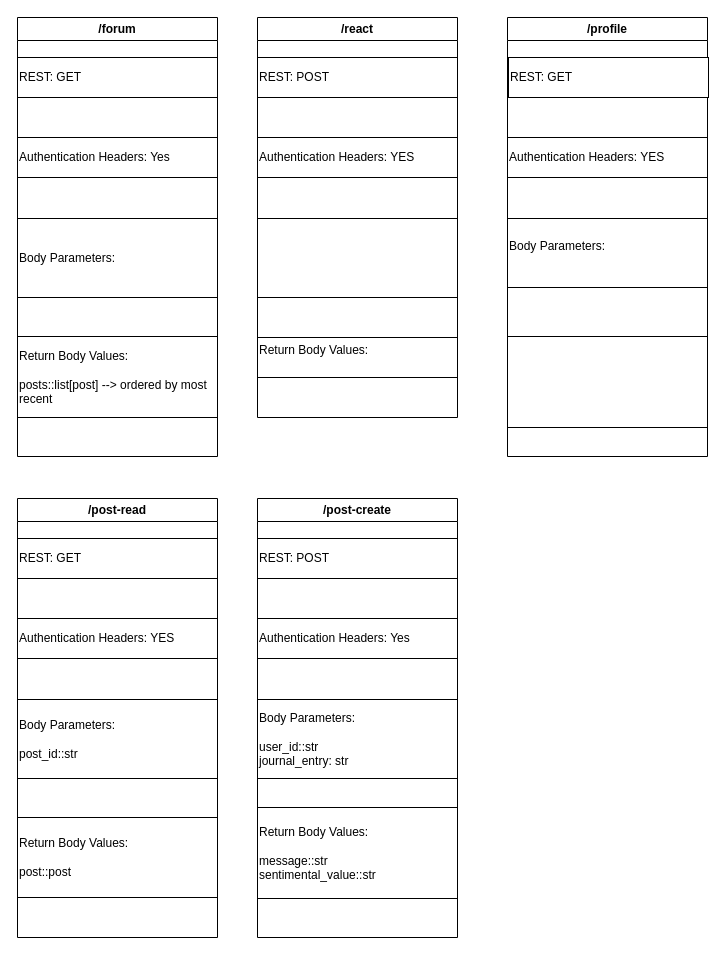
This 726x955 diagram has some shape labels left out. Here are the shapes that lost their labels. From the top down, the centre of each, then its label:
At (357,258): "Body Parameters: post_id: str reaction::str".
At (607,382): "Return Body Values: avatar::str posts::list[post] --> ordered by most recent".
